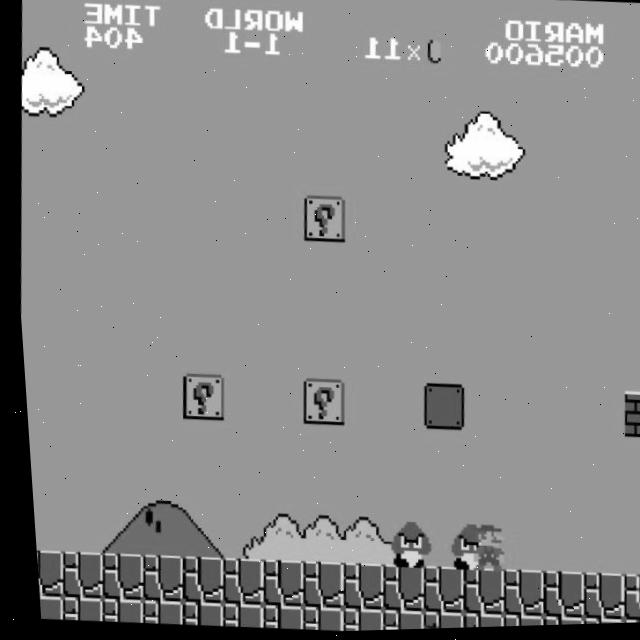1- brick_block: (616, 394, 640, 443)
11- little_mario: (457, 523, 506, 576)
13- mystery_block: (294, 378, 341, 428), (174, 372, 221, 422), (298, 196, 344, 245)
17- undestructible_block: (571, 574, 618, 624), (451, 569, 498, 619), (411, 567, 458, 617), (371, 565, 418, 615), (331, 563, 378, 613), (291, 561, 338, 611), (251, 559, 298, 609), (211, 557, 258, 607), (131, 554, 178, 604), (91, 552, 138, 602), (532, 572, 578, 622), (492, 570, 538, 620), (171, 555, 217, 605), (51, 550, 97, 600), (29, 547, 57, 597), (612, 577, 640, 625), (251, 604, 296, 631), (211, 603, 256, 630), (91, 597, 136, 624), (51, 596, 96, 623), (292, 606, 336, 633), (172, 601, 216, 628), (132, 599, 176, 626), (331, 608, 376, 633), (371, 610, 416, 632), (412, 612, 456, 631), (452, 613, 496, 630), (31, 593, 55, 620), (492, 615, 536, 629), (532, 617, 576, 628), (572, 619, 616, 627)
3- empty_block: (415, 384, 461, 434)
8- goomba: (440, 522, 489, 575), (380, 519, 428, 572)
